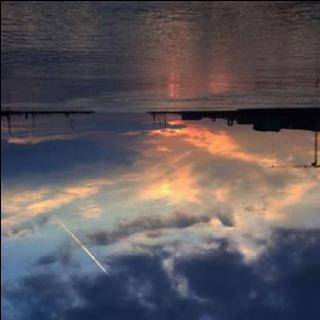Cirrostratus: (0, 154, 320, 320)
